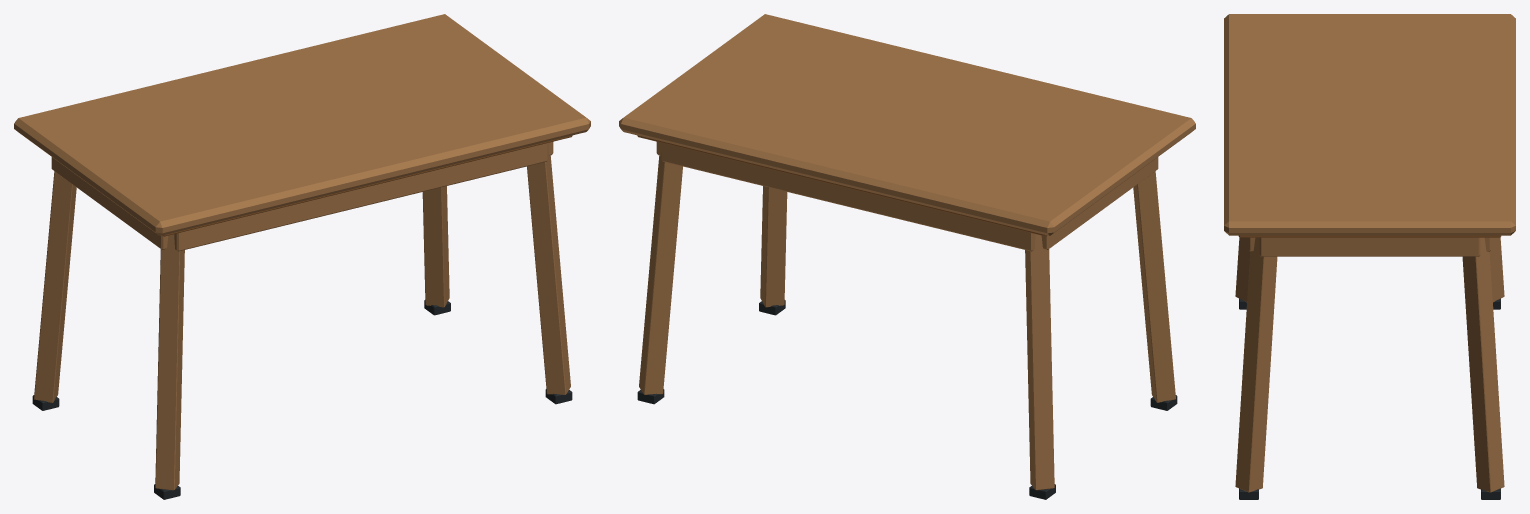
The model's file is oak_table.glb.
3 views of the same model, side by side, from view 1: azimuth 30°, elevation 25°; view 2: azimuth 150°, elevation 25°; view 3: azimuth 270°, elevation 25° (orthographic).
Parts seen in each view (by area): view 1: Oak tabletop, Long apron, Tapered stance leg, Tapered stance leg.002, Tapered stance leg.001, Tapered stance leg.003, Short apron, Undertop shadow reveal; view 2: Oak tabletop, Long apron.001, Tapered stance leg.001, Tapered stance leg.003, Tapered stance leg, Tapered stance leg.002, Short apron, Undertop shadow reveal; view 3: Oak tabletop, Tapered stance leg.002, Tapered stance leg.003, Short apron.001, Undertop shadow reveal, Tapered stance leg, Tapered stance leg.001.
Part boxes in pixels (<box>): Oak tabletop: <box>14,14,590,235</box>; Long apron: <box>174,143,548,251</box>; Tapered stance leg: <box>155,234,184,490</box>; Tapered stance leg.002: <box>527,151,570,394</box>; Tapered stance leg.001: <box>34,171,76,402</box>; Tapered stance leg.003: <box>422,186,449,307</box>; Short apron: <box>51,157,168,249</box>; Undertop shadow reveal: <box>162,135,572,236</box>; Oak tabletop: <box>619,14,1195,235</box>; Long apron.001: <box>661,143,1035,251</box>; Tapered stance leg.001: <box>1025,234,1054,490</box>; Tapered stance leg.003: <box>639,151,682,394</box>; Tapered stance leg: <box>1133,171,1175,402</box>; Tapered stance leg.002: <box>760,186,787,307</box>; Short apron: <box>1041,157,1158,249</box>; Undertop shadow reveal: <box>637,135,1047,236</box>; Oak tabletop: <box>1224,14,1515,235</box>; Tapered stance leg.002: <box>1235,237,1277,492</box>; Tapered stance leg.003: <box>1462,237,1504,492</box>; Short apron.001: <box>1259,237,1480,256</box>; Undertop shadow reveal: <box>1238,235,1501,237</box>; Tapered stance leg: <box>1235,237,1250,302</box>; Tapered stance leg.001: <box>1489,237,1504,302</box>.
Bounding box in the file's own units: 1.2 × 0.75 × 0.7.
